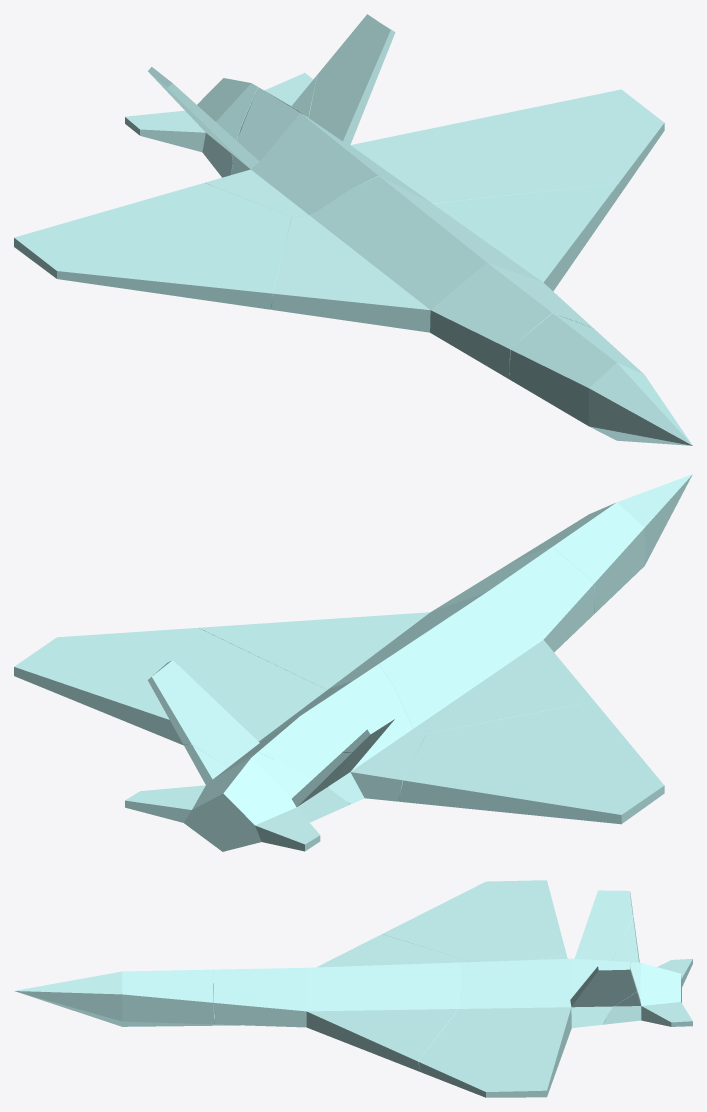
Rendered from JetBroken.fbx.
3 renders of one model, top to bottom at view 1: azimuth 30°, elevation 25°; view 2: azimuth 150°, elevation 25°; view 3: azimuth 270°, elevation 25°, orthographic. The views are drawn at different scales.
Visible parts, largest first — view 1: Jet._cell.003, Jet._cell.004, Jet._cell, Jet._cell.001, Jet._cell.002; view 2: Jet._cell.004, Jet._cell.003, Jet._cell, Jet._cell.002, Jet._cell.001; view 3: Jet._cell.004, Jet._cell.003, Jet._cell, Jet._cell.001, Jet._cell.002.
Part boxes in pixels (box(x1,y1,x2,y2)): Jet._cell.003: box(271, 176, 620, 379); Jet._cell.004: box(148, 14, 664, 217); Jet._cell: box(14, 183, 291, 309); Jet._cell.001: box(509, 313, 692, 445); Jet._cell.002: box(125, 73, 317, 177); Jet._cell.004: box(14, 628, 425, 803); Jet._cell.003: box(199, 547, 594, 734); Jet._cell: box(398, 701, 664, 824); Jet._cell.002: box(125, 744, 351, 851); Jet._cell.001: box(511, 474, 692, 613); Jet._cell.004: box(418, 890, 636, 1097); Jet._cell.003: box(213, 934, 471, 1071); Jet._cell: box(382, 880, 566, 961); Jet._cell.001: box(15, 969, 214, 1026); Jet._cell.002: box(603, 913, 692, 1026).
Bounding box in the file's own units: 348 × 76.03 × 474.
